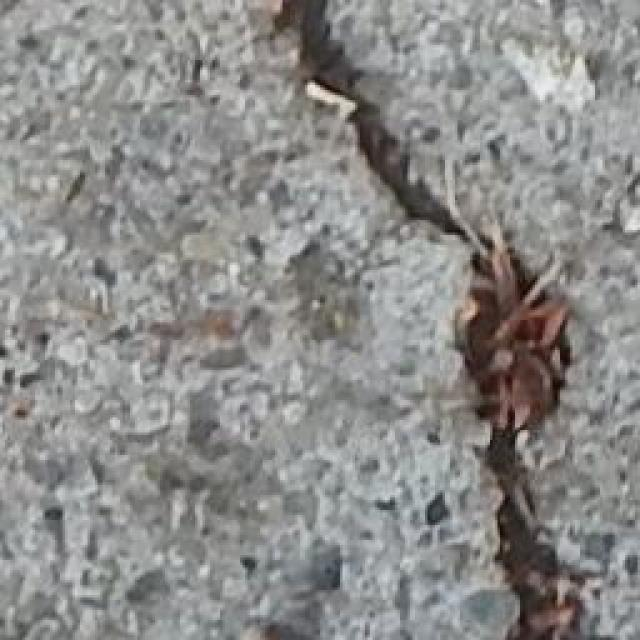concrete-crack: (268, 0, 593, 640)
